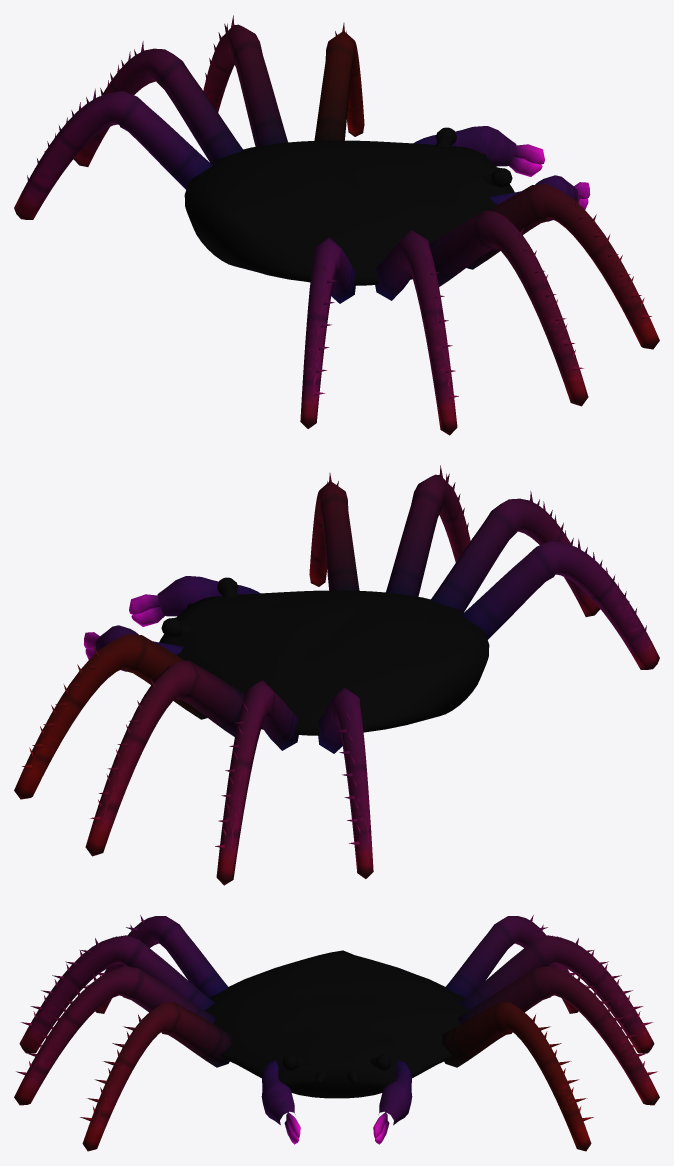
File: emerald_crab.glb
3 renders of one model, top to bottom at view 1: azimuth 30°, elevation 25°; view 2: azimuth 150°, elevation 25°; view 3: azimuth 270°, elevation 25°, orthographic. The views are drawn at different scales.
Parts seen in each view (by area): view 1: Legs, Body, Claws, Eyes; view 2: Legs, Body, Claws, Eyes; view 3: Legs, Body, Claws, Eyes.
Boxes of the visible parts, x1=… form: Legs: x1=14, y1=15, x2=659, y2=435; Body: x1=184, y1=140, x2=514, y2=285; Claws: x1=414, y1=126, x2=590, y2=221; Eyes: x1=435, y1=127, x2=512, y2=187; Legs: x1=14, y1=465, x2=659, y2=885; Body: x1=159, y1=590, x2=489, y2=735; Claws: x1=83, y1=576, x2=259, y2=671; Eyes: x1=161, y1=577, x2=238, y2=637; Legs: x1=14, y1=915, x2=659, y2=1151; Body: x1=205, y1=950, x2=468, y2=1098; Claws: x1=261, y1=1060, x2=412, y2=1144; Eyes: x1=282, y1=1054, x2=391, y2=1070.
Bounding box in the file's own units: 1.53 × 0.5538 × 2.49.
Materials: 1 (1 with a texture image).
